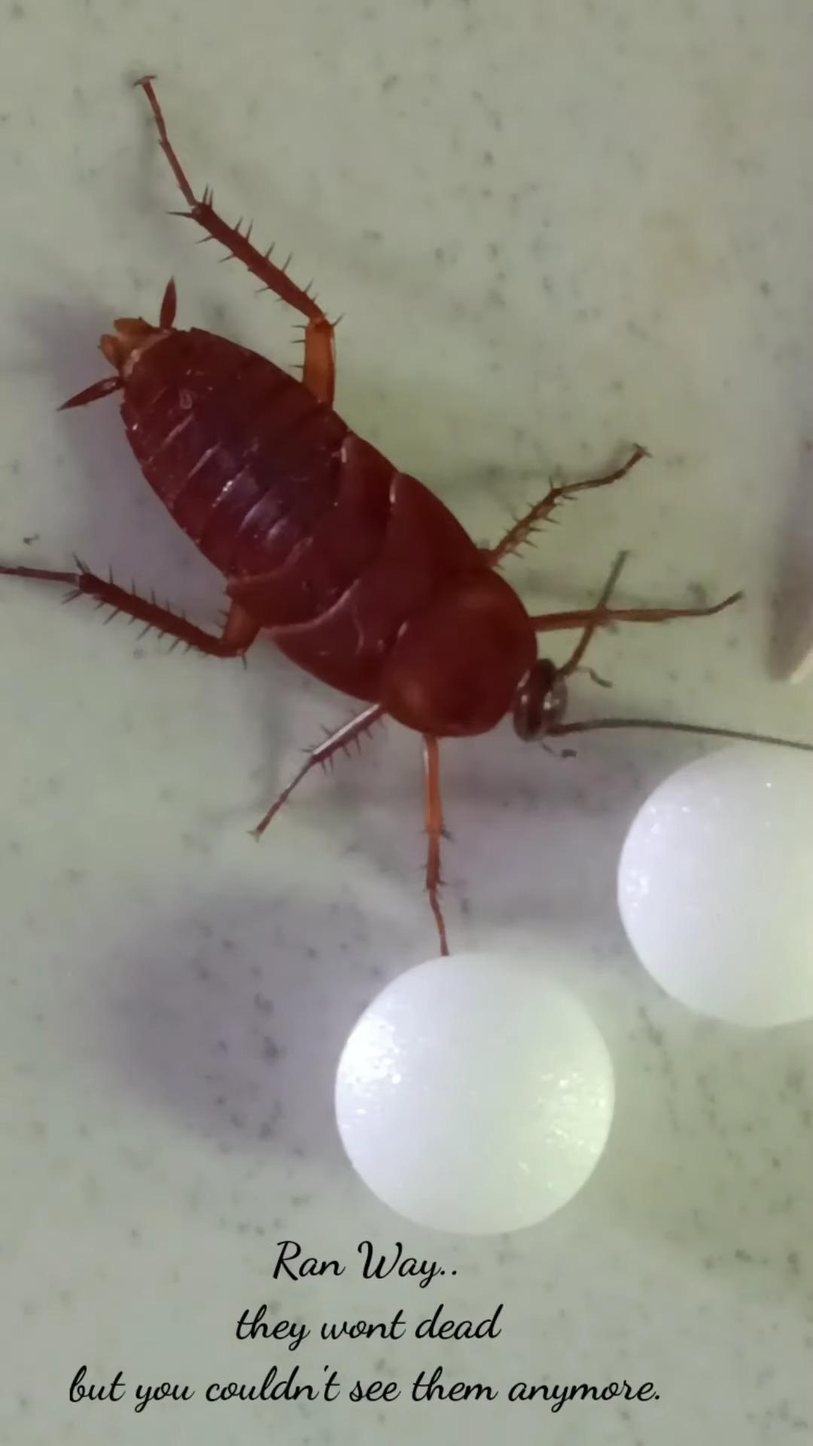cockroach: (0, 69, 586, 853)
